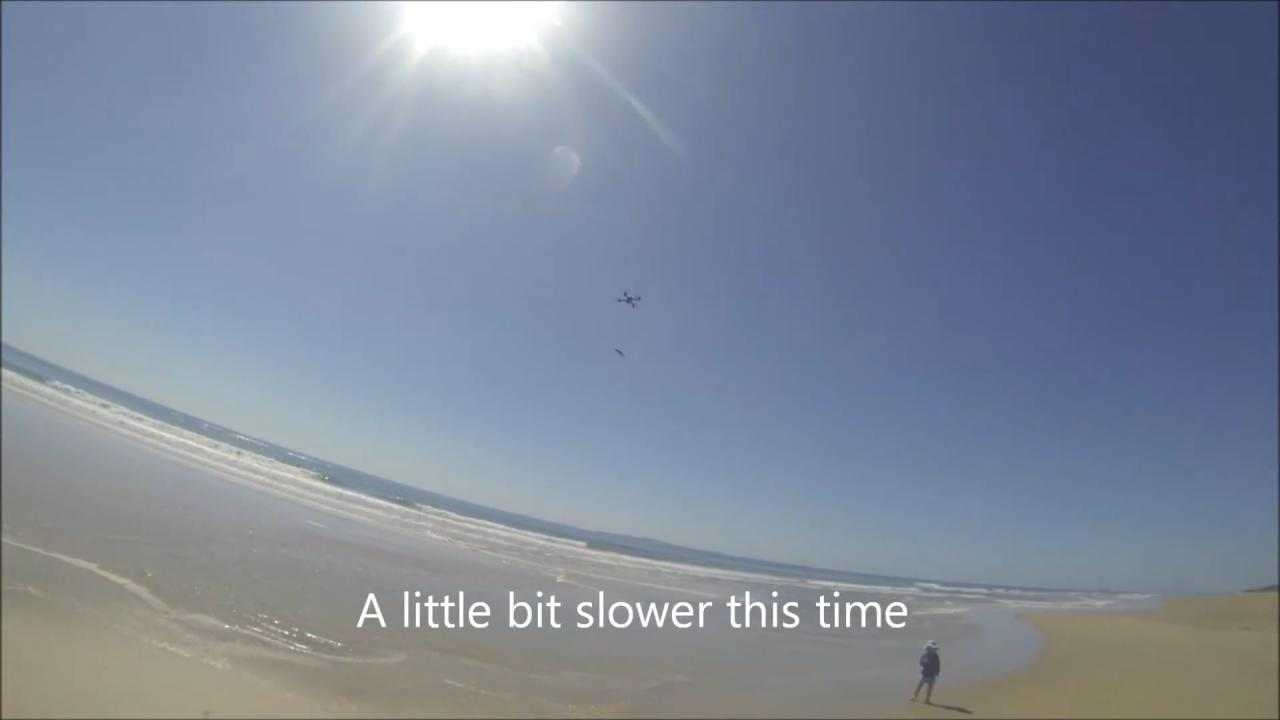Drone: (607, 286, 648, 314)
